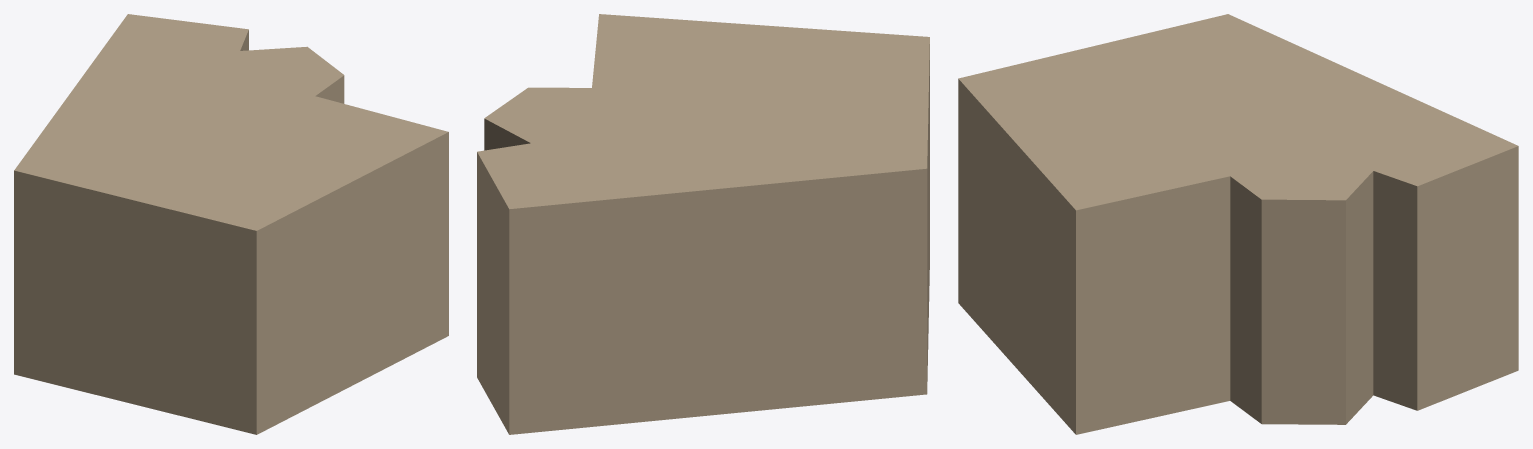
Rendered from bld_99615962.dae.
3 renders of one model, left to right at view 1: azimuth 30°, elevation 25°; view 2: azimuth 150°, elevation 25°; view 3: azimuth 270°, elevation 25°, orthographic. The views are drawn at different scales.
Parts seen in each view (by area): view 1: bld_99615962; view 2: bld_99615962; view 3: bld_99615962.
Part boxes in pixels (bbox=[...]): bld_99615962: bbox=[14, 14, 448, 434]; bld_99615962: bbox=[477, 14, 929, 434]; bld_99615962: bbox=[958, 14, 1518, 434].
Size of the model in its own units: 15.01 by 18.09 by 8.
